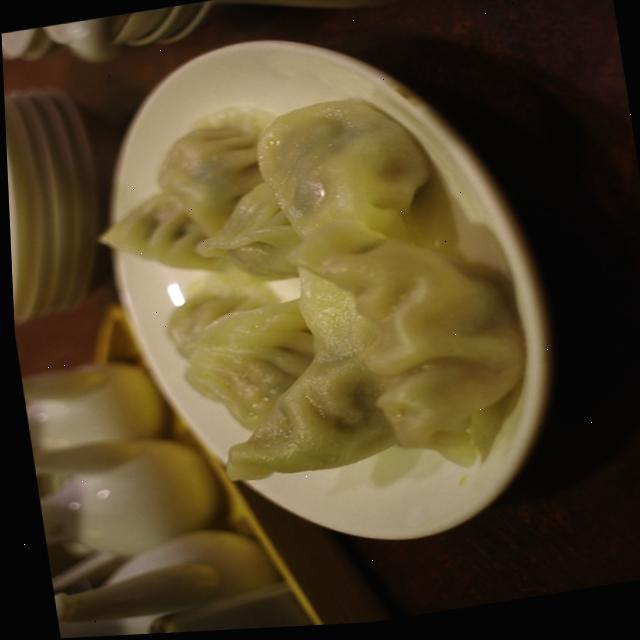带馅早点: (73, 19, 578, 568)
